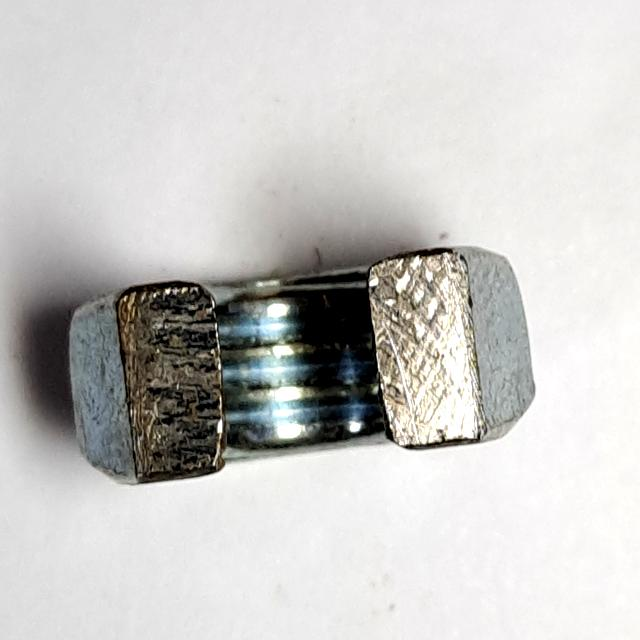Side-Fracture: (58, 227, 546, 513)
